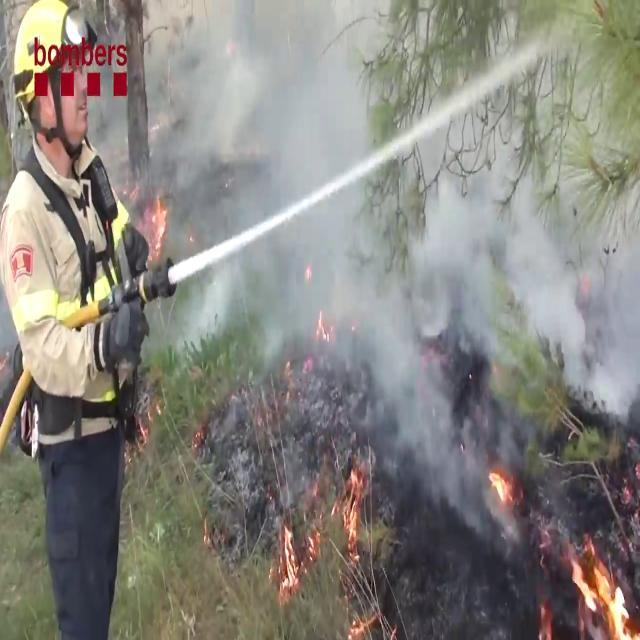Fire: (568, 536, 635, 638), (484, 454, 516, 510)
Smoke: (350, 128, 640, 497), (136, 0, 382, 352)
